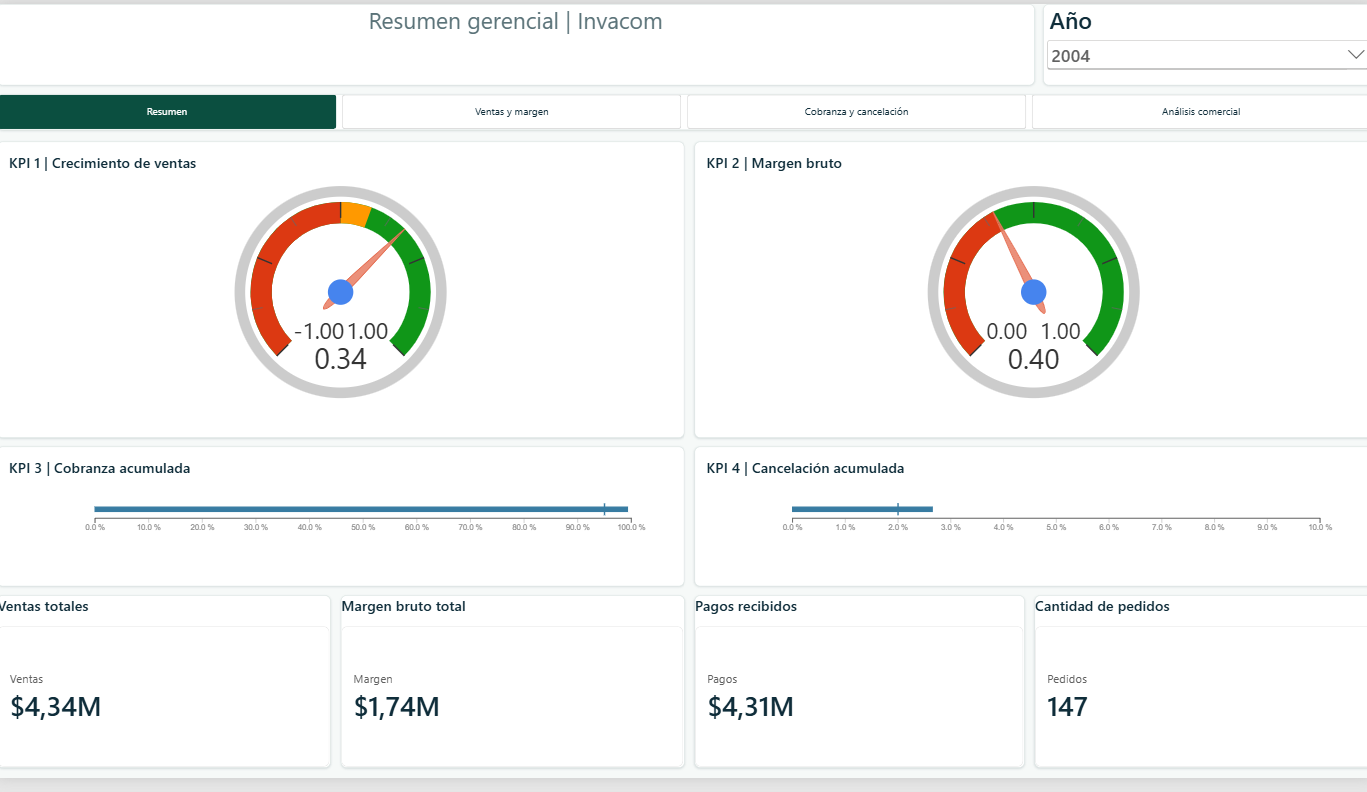

What the dashboard file says about the page in this screenshot:
{"tool":"powerbi","page":{"name":"Resumen","canvas":[1920,1080],"ordinal":0},"visuals":[{"type":"textbox","box":[0,0,1447.7,113.4],"z":0},{"type":"slicer","fields":{"Values":["DIM_FECHA.ANIO"]},"box":[1459.9,0,460.5,113.4],"z":1000},{"type":"dg5AAA90EFEFE747CB9357C4FC19B85A58","title":"KPI 1 | Crecimiento de ventas","fields":{"max":["Medidas.Gauge Max 100"],"redStart":["Medidas.Gauge Min"],"redEnd":["Medidas.Gauge Meta Crecimiento"],"pointerValue":["Medidas.Gauge Crecimiento"]},"box":[0,191.9,959.3,413.4],"z":2000},{"type":"dg5AAA90EFEFE747CB9357C4FC19B85A58","title":"KPI 2 | Margen bruto","fields":{"max":["Medidas.Gauge Max 100"],"min":["Medidas.Gauge Min Margen"],"redEnd":["Medidas.Gauge Meta Margen"],"pointerValue":["Medidas.Gauge Margen"]},"box":[973.3,191.9,947.1,413.4],"z":3000},{"type":"BulletChart1443347686880","title":"KPI 3 | Cobranza acumulada","fields":{"Value":["Medidas.Cobranza acumulada %"],"TargetValue":["Medidas.Meta cobranza"],"Minimum":["Medidas.Gauge Min Margen"],"Maximum":["Medidas.Gauge Max"]},"box":[0,617.4,959.3,195.3],"z":4000},{"type":"BulletChart1443347686880","title":"KPI 4 | Cancelación acumulada","fields":{"Minimum":["Medidas.Gauge Min Margen"],"Value":["Medidas.Cancelación acumulada %"],"TargetValue":["Medidas.Meta cancelación"],"Maximum":["Medidas.Gauge Max Cancelacion"]},"box":[973.3,617.4,947.1,195.3],"z":5000},{"type":"multiRowCard","title":"Totales del año seleccionado","fields":{"Values":["Medidas.Ventas","Medidas.Margen","Medidas.Pagos","Medidas.Pedidos"]},"box":[0,825,1920,241],"z":6000},{"type":"pageNavigator","box":[0,125.6,1920.4,50.6],"z":10000}]}

Visuals, with their boxes in screenshot pixels (x1, y1, x2, y2), scaled from the page's 1920x1080 canvas onto the 1367x792 screenshot:
textbox: 0 0 1031 83
slicer - DIM_FECHA.ANIO: 1039 0 1366 83
"KPI 1 | Crecimiento de ventas" dg5AAA90EFEFE747CB9357C4FC19B85A58: 0 141 683 444
"KPI 2 | Margen bruto" dg5AAA90EFEFE747CB9357C4FC19B85A58: 693 141 1366 444
"KPI 3 | Cobranza acumulada" BulletChart1443347686880: 0 453 683 596
"KPI 4 | Cancelación acumulada" BulletChart1443347686880: 693 453 1366 596
"Totales del año seleccionado" multiRowCard: 0 605 1366 782
pageNavigator: 0 92 1366 129
